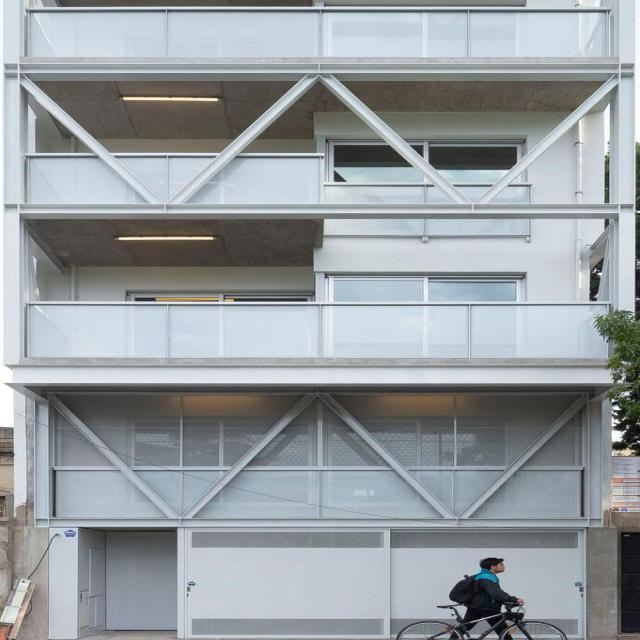door: (100, 528, 176, 632)
railing: (22, 302, 605, 359), (22, 6, 608, 57), (50, 468, 578, 518), (22, 154, 315, 203)
window: (128, 417, 512, 467), (325, 143, 509, 183), (322, 277, 513, 302), (123, 292, 309, 304)
